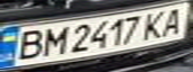1: (106, 16, 127, 47)
2: (69, 21, 93, 54)
4: (90, 17, 112, 51)
7: (121, 12, 148, 44)
A: (157, 6, 190, 37)
B: (9, 27, 48, 61)
K: (139, 8, 172, 41)
M: (36, 25, 69, 57)
